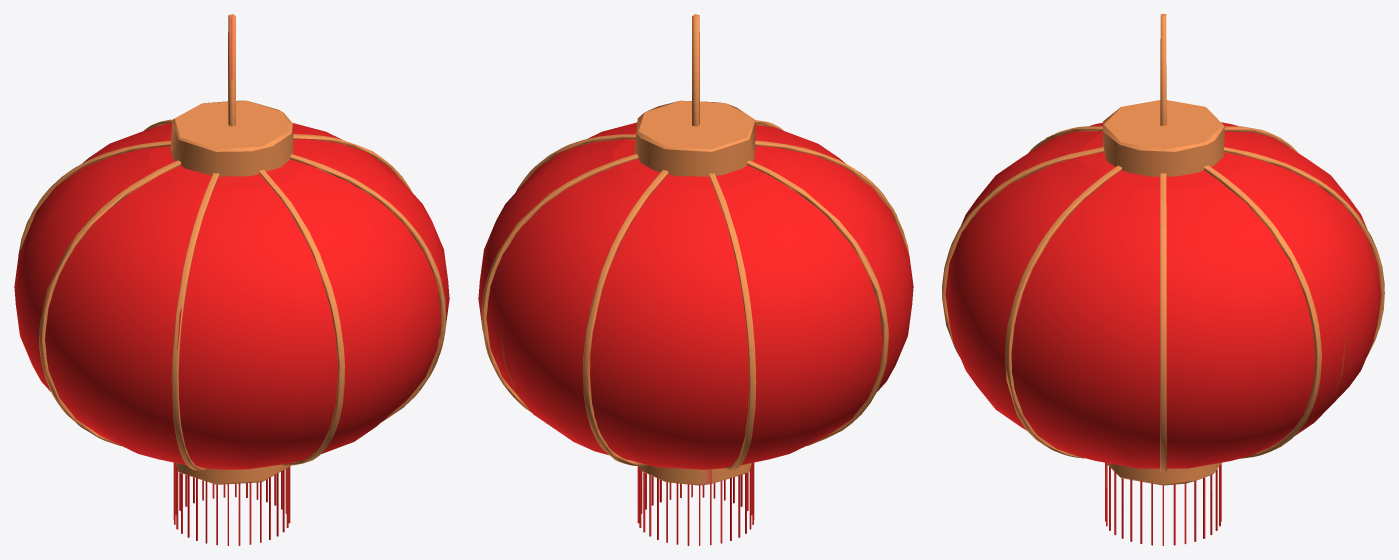
The model's file is longden.glb.
The picture shows the model from 3 angles, left to right: view 1: azimuth 30°, elevation 25°; view 2: azimuth 150°, elevation 25°; view 3: azimuth 270°, elevation 25°; orthographic projection.
Parts seen in each view (by area): view 1: Cylinder; view 2: Cylinder; view 3: Cylinder.
Part boxes in pixels (x1,y1,x2,y2): Cylinder: (14,14,449,545); Cylinder: (478,14,913,545); Cylinder: (942,14,1384,545).
Bounding box in the file's own units: 2.03 × 2.56 × 2.03.
1 material, 1 textured.
